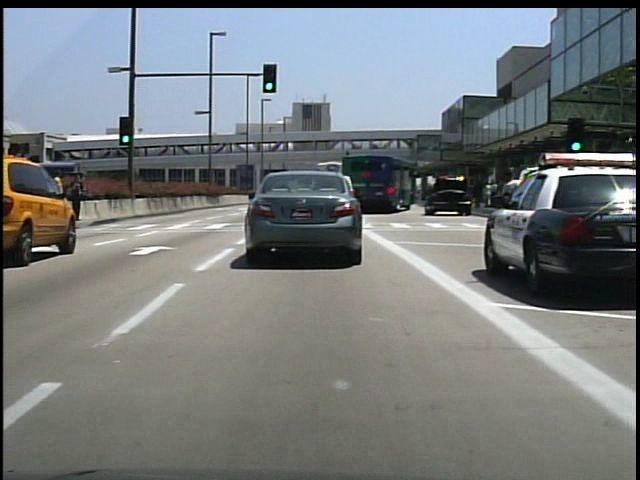person: (497, 164, 534, 260), (69, 173, 88, 217), (53, 169, 68, 222)
